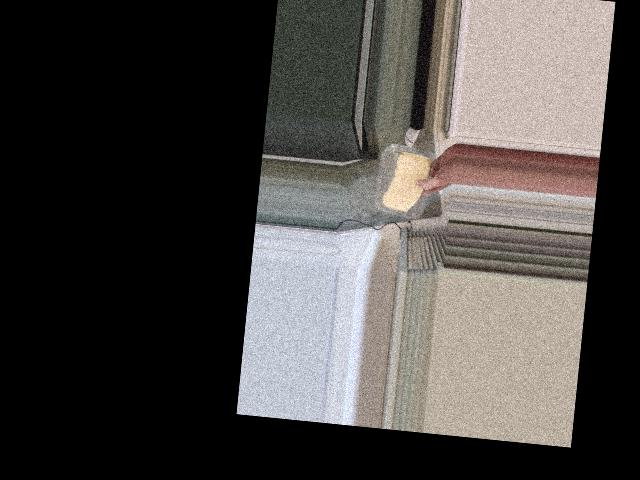cheese: (378, 143, 436, 219)
